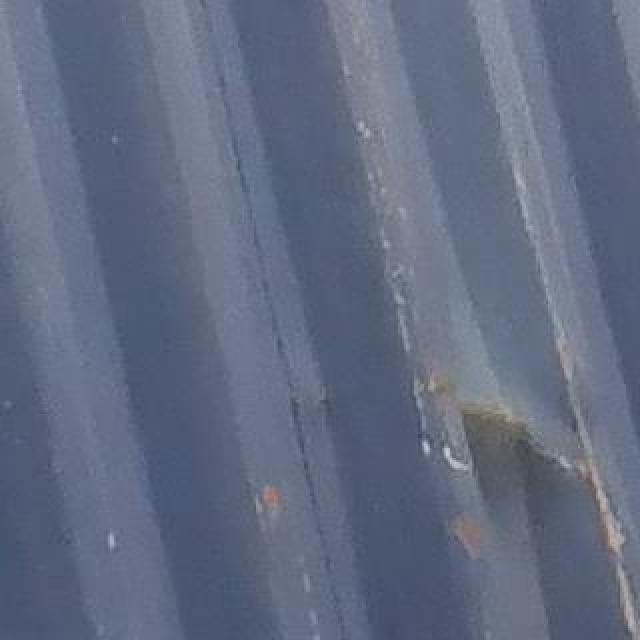dent: (395, 327, 615, 567)
